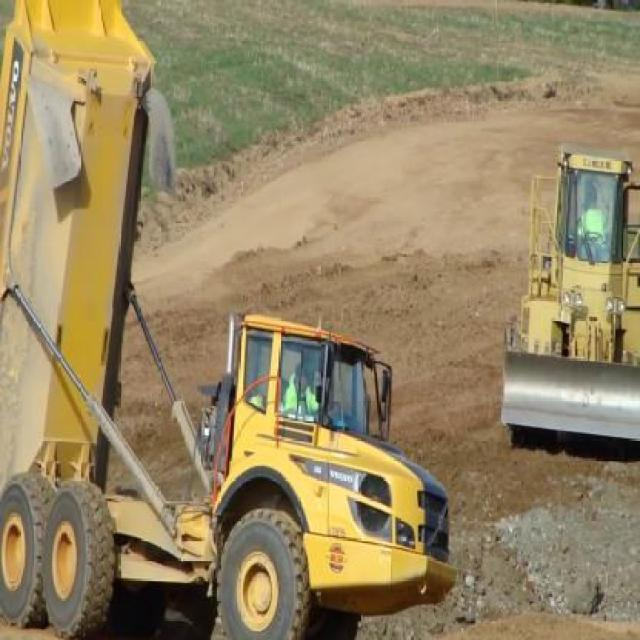dump_truck: (0, 0, 460, 638)
